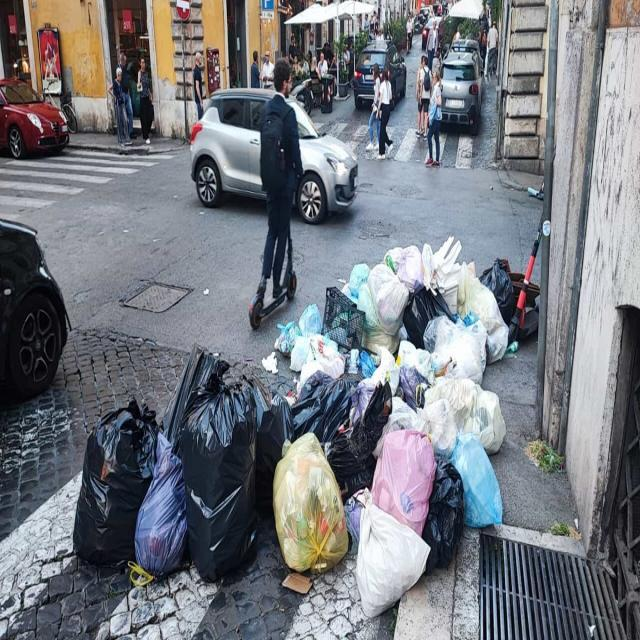high trash: (74, 221, 550, 617)
